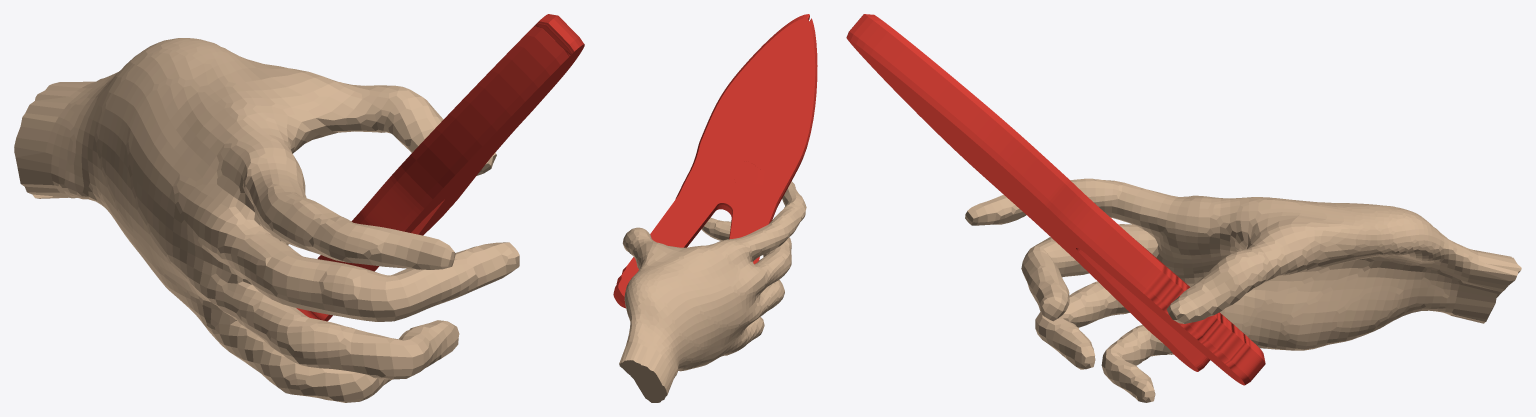
The model's file is hand-with-clamp.fbx.
3 views of the same model, side by side, from view 1: azimuth 30°, elevation 25°; view 2: azimuth 150°, elevation 25°; view 3: azimuth 270°, elevation 25° (orthographic). The views are drawn at different scales.
Visible parts, largest first — view 1: Object03, BezierCurve_CUBezierCurve.001; view 2: Object03, BezierCurve_CUBezierCurve.001; view 3: Object03, BezierCurve_CUBezierCurve.001.
Part boxes in pixels (bbox=[...]): Object03: bbox=[14, 38, 519, 402]; BezierCurve_CUBezierCurve.001: bbox=[296, 14, 584, 321]; Object03: bbox=[619, 181, 806, 402]; BezierCurve_CUBezierCurve.001: bbox=[613, 14, 817, 308]; Object03: bbox=[965, 178, 1521, 402]; BezierCurve_CUBezierCurve.001: bbox=[846, 14, 1265, 385].
Size of the model in its own units: 360 by 620 by 997.
